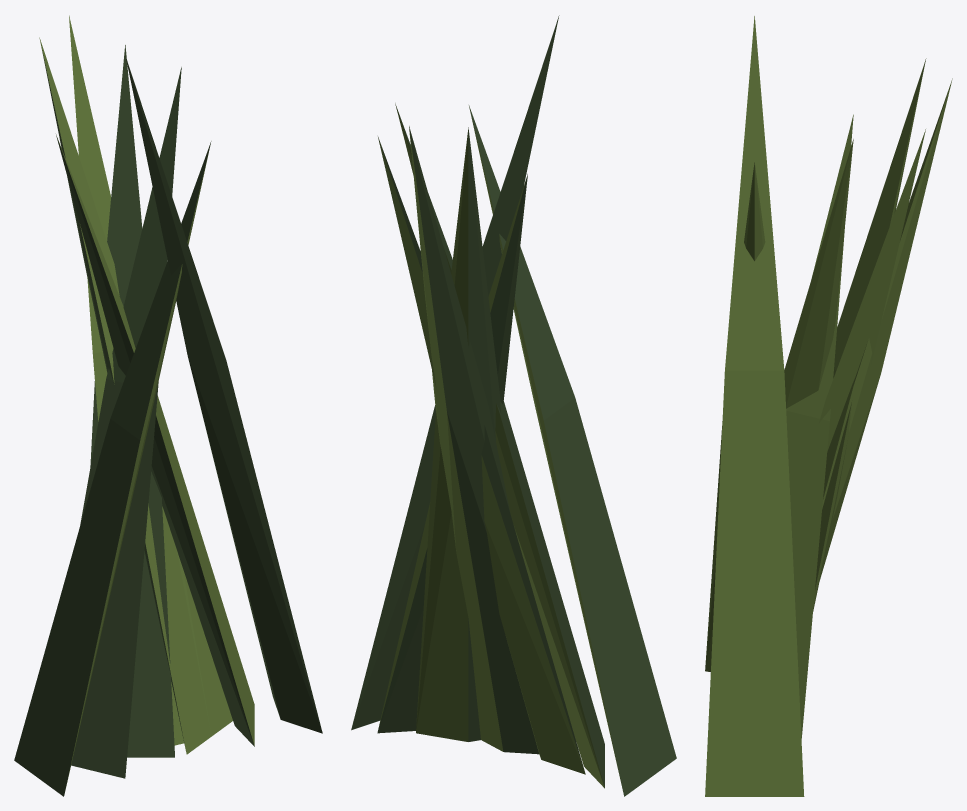
The model's file is TW_VEG_GRASS_FAN_B_LOD0.glb.
The picture shows the model from 3 angles, left to right: view 1: azimuth 30°, elevation 25°; view 2: azimuth 150°, elevation 25°; view 3: azimuth 270°, elevation 25°; orthographic projection. The views are drawn at different scales.
Parts seen in each view (by area): view 1: TW_VEG_GRASS_FAN_B_LOD0; view 2: TW_VEG_GRASS_FAN_B_LOD0; view 3: TW_VEG_GRASS_FAN_B_LOD0.
Part boxes in pixels (x1,y1,x2,y2): TW_VEG_GRASS_FAN_B_LOD0: (14,15,322,796); TW_VEG_GRASS_FAN_B_LOD0: (351,15,676,796); TW_VEG_GRASS_FAN_B_LOD0: (705,16,952,796).
Bounding box in the file's own units: 0.27 × 0.7003 × 0.225.
Materials: 1 (1 with a texture image).
